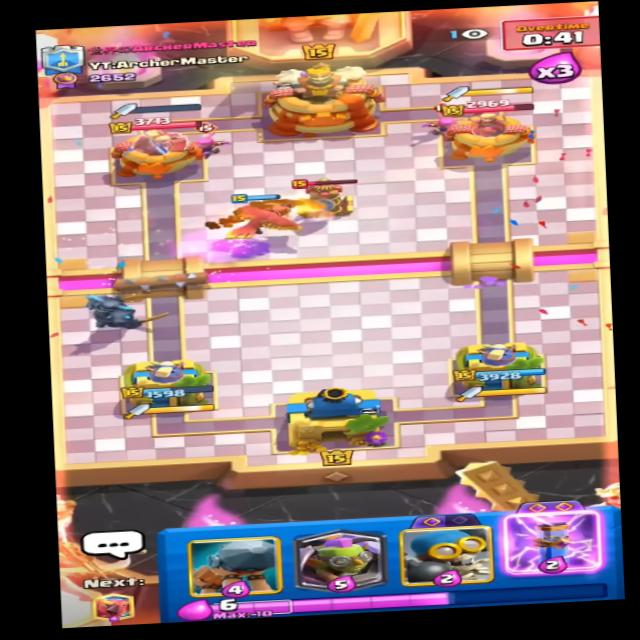evo-archers: (425, 103, 467, 136), (186, 122, 225, 157)
tesla: (291, 176, 364, 222)
